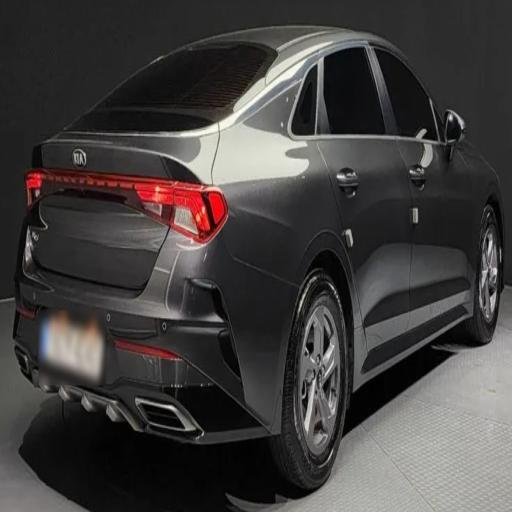normal: (8, 3, 503, 489)
